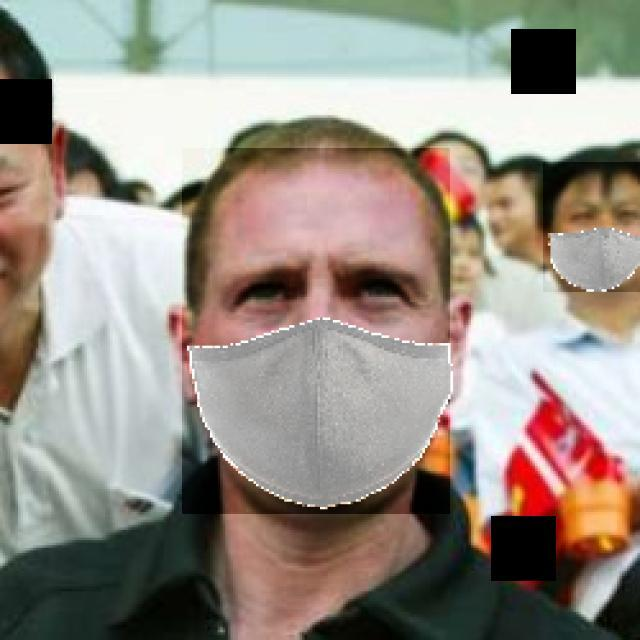cloth: (182, 149, 450, 515), (543, 162, 640, 292)
